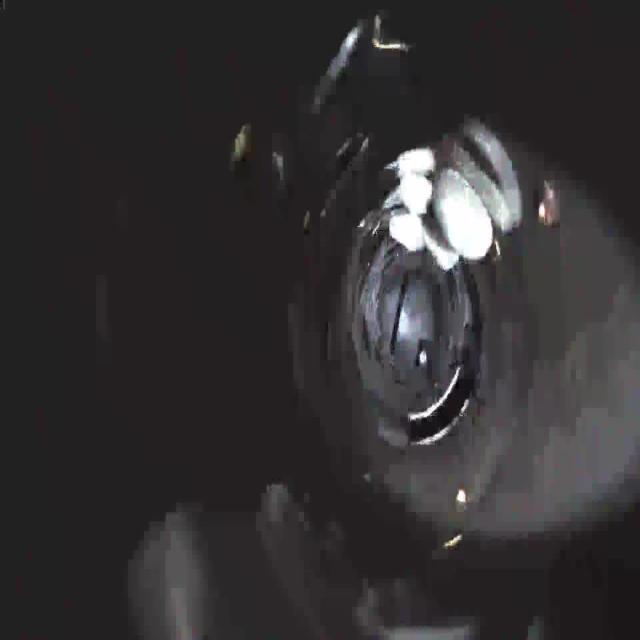hole: (402, 362, 479, 457)
